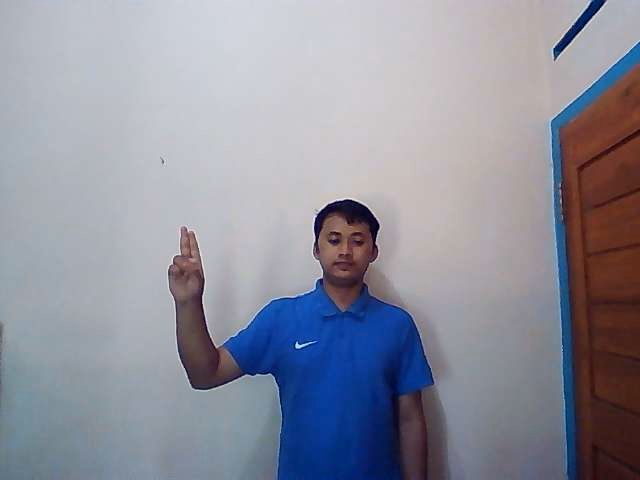U: (166, 225, 205, 299)
